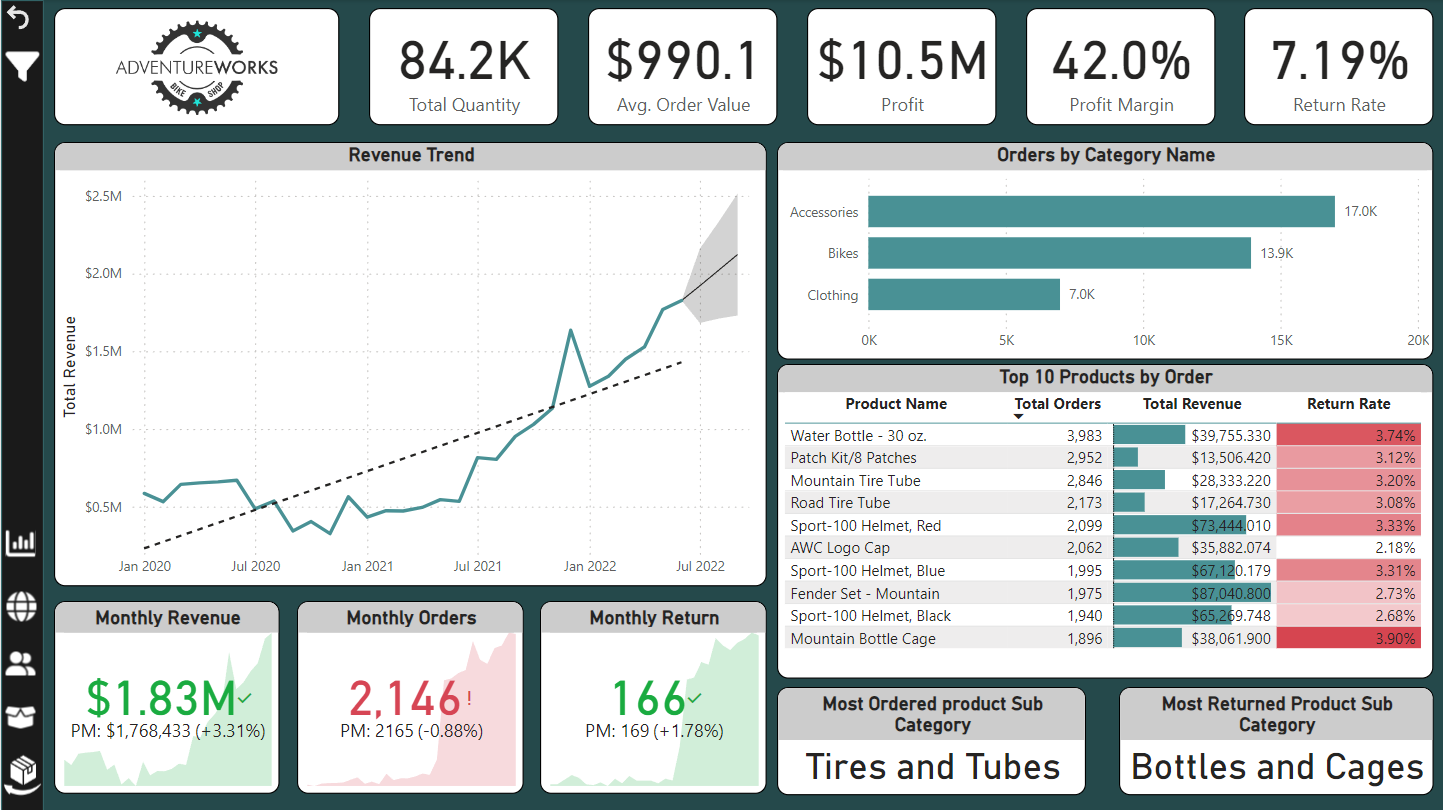

The page's visual inventory and layout, read from the dashboard file:
{"tool":"powerbi","page":{"name":"Executive Dashboard","canvas":[1280,720],"ordinal":0},"visuals":[{"type":"image","box":[47,7.1,252.7,103.7],"z":0},{"type":"lineChart","title":"Revenue Trend","fields":{"Y":["_Measures.Total Revenue"],"Category":["Calendar Lookup.Start of Month"]},"box":[47,125.9,632.2,393.7],"z":1000},{"type":"barChart","title":"Orders by Category Name","fields":{"Category":["Product Categories Lookup.Category Name"],"Y":["_Measures.Total Orders"]},"box":[687.8,125.6,582.2,193.3],"z":2000},{"type":"card","fields":{"Values":["_Measures.Total Quantity"]},"box":[326.5,7.5,167.5,103.8],"z":3000},{"type":"card","fields":{"Values":["_Measures.Avg. Order Value"]},"box":[520.5,7.5,167.5,103.8],"z":4000},{"type":"card","fields":{"Values":["_Measures.Profit"]},"box":[714.5,7.5,167.5,103.8],"z":5000},{"type":"card","fields":{"Values":["_Measures.Profit Margin"]},"box":[908.5,7.5,167.5,103.8],"z":6000},{"type":"card","fields":{"Values":["_Measures.Return Rate"]},"box":[1102.5,7.5,167.5,103.8],"z":7000},{"type":"tableEx","title":"Top 10 Products by Order","fields":{"Values":["Product Lookup.Product Name","_Measures.Total Orders","_Measures.Total Revenue","_Measures.Return Rate"]},"box":[688.1,322.8,581.7,279.3],"z":8000},{"type":"card","title":"Most Ordered product Sub Category","fields":{"Values":["Min(Product Subcategories Lookup.Subcategory Name)"]},"box":[687.8,608.9,274.4,95.6],"z":9000},{"type":"card","title":"Most Returned Product Sub Category","fields":{"Values":["Min(Product Subcategories Lookup.Subcategory Name)"]},"box":[991.1,608.9,278.9,95.6],"z":10000},{"type":"kpi","title":"Monthly Revenue ","fields":{"Indicator":["_Measures.Total Revenue"],"TrendLine":["Calendar Lookup.Start of Month"],"Goal":["_Measures.Previous Month Revenue"]},"box":[47,532.9,200.4,171.1],"z":11000},{"type":"kpi","title":"Monthly Orders ","fields":{"TrendLine":["Calendar Lookup.Start of Month"],"Indicator":["_Measures.Total Orders"],"Goal":["_Measures.Previous Month Orders"]},"box":[262.5,532.9,201.3,171.1],"z":12000},{"type":"kpi","title":"Monthly Return","fields":{"TrendLine":["Calendar Lookup.Start of Month"],"Indicator":["_Measures.Order Returned"],"Goal":["_Measures.Previous Month Return"]},"box":[477.8,533.3,201.1,171.1],"z":13000},{"type":"shape","box":[0,0,38.1,720],"z":14000},{"type":"actionButton","box":[0,0,30.1,30.1],"z":15000},{"type":"actionButton","box":[0,464.6,37.2,34.6],"z":16000},{"type":"actionButton","box":[0.9,520.5,37.2,34.6],"z":17000},{"type":"actionButton","box":[0,571,37.2,34.6],"z":18000},{"type":"actionButton","box":[0,618.9,37.2,34.6],"z":19000},{"type":"actionButton","box":[0,663.3,38.1,47.9],"z":19500},{"type":"actionButton","box":[0,40,38.2,38.2],"z":23000}]}

Visuals, with their boxes in screenshot pixels (x1, y1, x2, y2):
image: region(60, 8, 341, 123)
"Revenue Trend" lineChart: region(60, 140, 763, 578)
"Orders by Category Name" barChart: region(772, 140, 1419, 355)
card - _Measures.Total Quantity: region(371, 8, 557, 124)
card - _Measures.Avg. Order Value: region(586, 8, 772, 124)
card - _Measures.Profit: region(802, 8, 988, 124)
card - _Measures.Profit Margin: region(1018, 8, 1204, 124)
card - _Measures.Return Rate: region(1233, 8, 1419, 124)
"Top 10 Products by Order" tableEx: region(773, 359, 1419, 669)
"Most Ordered product Sub Category" card: region(772, 677, 1077, 783)
"Most Returned Product Sub Category" card: region(1109, 677, 1419, 783)
"Monthly Revenue " kpi: region(60, 592, 283, 783)
"Monthly Orders " kpi: region(299, 592, 523, 783)
"Monthly Return" kpi: region(539, 593, 762, 783)
shape: region(8, 0, 50, 800)
actionButton: region(8, 0, 41, 33)
actionButton: region(8, 517, 49, 555)
actionButton: region(9, 579, 50, 617)
actionButton: region(8, 635, 49, 673)
actionButton: region(8, 688, 49, 727)
actionButton: region(8, 737, 50, 791)
actionButton: region(8, 44, 50, 87)
